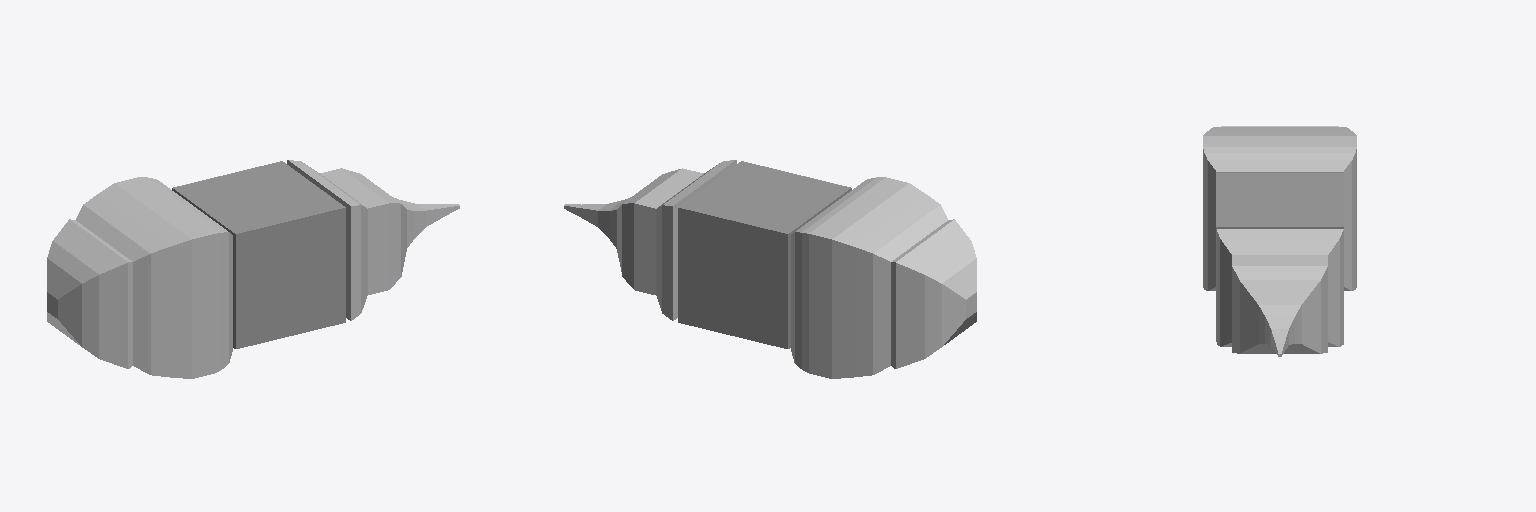
Rendered from snake-full-build.obj.
3 renders of one model, left to right at view 1: azimuth 30°, elevation 25°; view 2: azimuth 150°, elevation 25°; view 3: azimuth 270°, elevation 25°, orthographic.
Visible parts, largest first — view 1: Plane.001, Cube, Plane_Plane.002; view 2: Plane.001, Cube, Plane_Plane.002; view 3: Plane_Plane.002, Plane.001, Cube.
Part boxes in pixels (bbox=[...]): Plane.001: bbox=[47, 177, 232, 378]; Cube: bbox=[172, 161, 345, 348]; Plane_Plane.002: bbox=[287, 160, 459, 320]; Plane.001: bbox=[791, 177, 976, 378]; Cube: bbox=[678, 161, 851, 348]; Plane_Plane.002: bbox=[564, 160, 736, 320]; Plane_Plane.002: bbox=[1217, 229, 1343, 356]; Plane.001: bbox=[1203, 126, 1356, 290]; Cube: bbox=[1216, 173, 1343, 341].
Bounding box in the file's own units: 7.39 × 2.42 × 2.42.